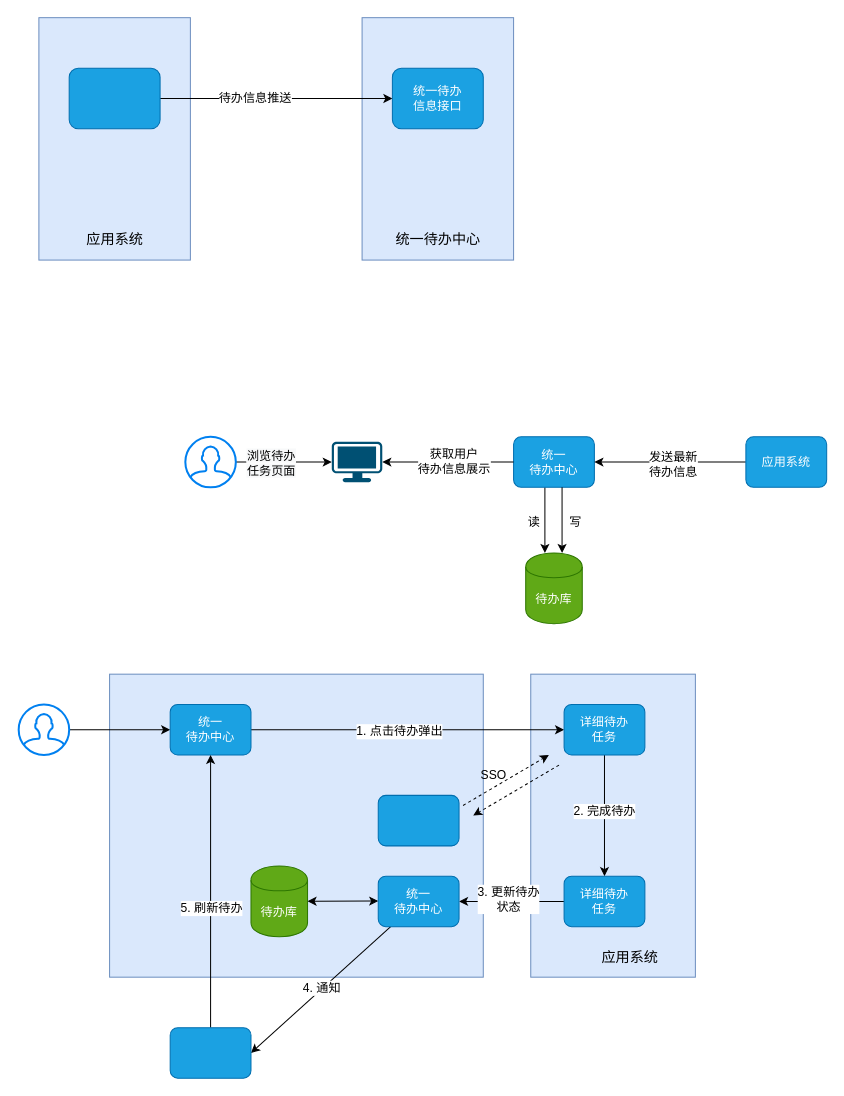
Image size: 844x1096. Some labels were removed from this diagram. Here are the shapes that lost their labels. From the top down, the box of each, then its label:
(68, 67, 160, 129): 调用统一 待办接口
(377, 794, 459, 846): 授权服务器
(169, 1027, 251, 1078): 消息推送系统
